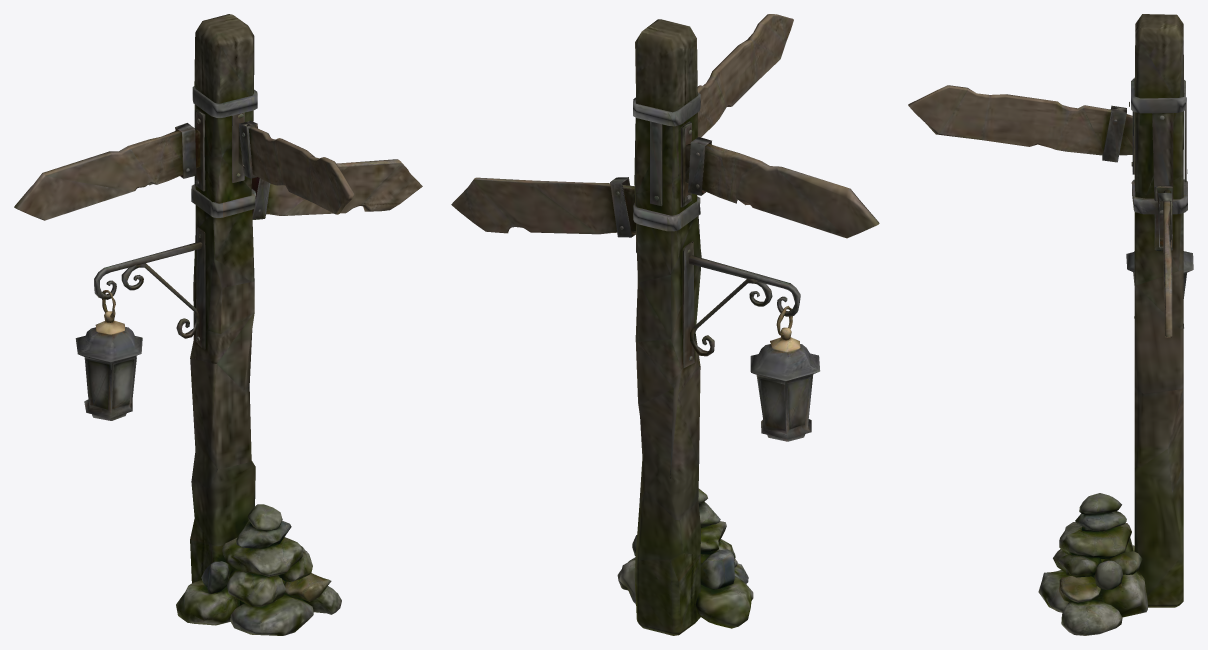
File: signpost.glb
The picture shows the model from 3 angles, left to right: view 1: azimuth 30°, elevation 25°; view 2: azimuth 150°, elevation 25°; view 3: azimuth 270°, elevation 25°; orthographic projection. The views are drawn at different scales.
Parts seen in each view (by area): view 1: signpost_p2; view 2: signpost_p2; view 3: signpost_p2.
Part boxes in pixels (x1,y1,x2,y2): signpost_p2: [14, 14, 422, 635]; signpost_p2: [451, 14, 879, 635]; signpost_p2: [908, 14, 1193, 635].
Size of the model in its own units: 1.72 by 2.3 by 1.03.
Materials: 1 (1 with a texture image).
